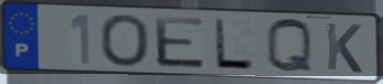1: (69, 13, 92, 66)
E: (152, 15, 209, 71)
K: (323, 20, 364, 75)
L: (212, 17, 257, 72)
O: (98, 12, 152, 69)
Q: (264, 16, 316, 75)
